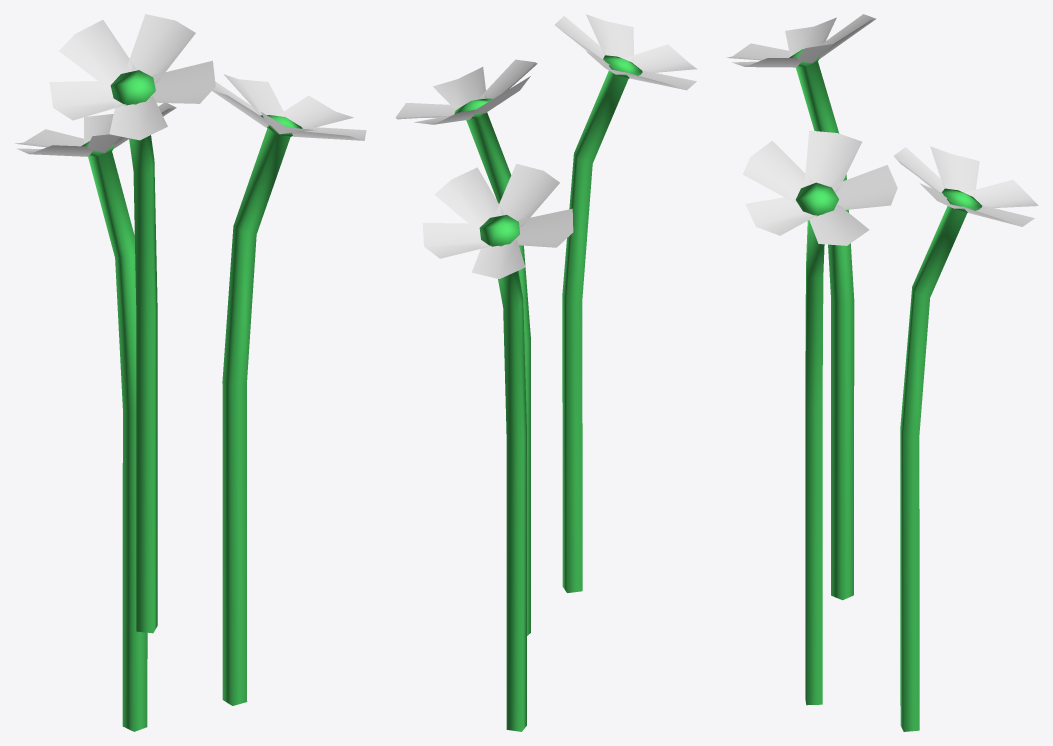
File: Flower_A_2.fbx
The picture shows the model from 3 angles, left to right: view 1: azimuth 30°, elevation 25°; view 2: azimuth 150°, elevation 25°; view 3: azimuth 270°, elevation 25°; orthographic projection. The views are drawn at different scales.
Visible parts, largest first — view 1: Flower_A_2_LOD0; view 2: Flower_A_2_LOD0; view 3: Flower_A_2_LOD0.
Boxes of the visible parts, x1,y1,x2,y2 form: Flower_A_2_LOD0: (15, 14, 366, 731); Flower_A_2_LOD0: (395, 14, 697, 731); Flower_A_2_LOD0: (726, 14, 1038, 731).
Size of what is drawn, in the model's own units: 0.3984 by 0.9284 by 0.3828.
